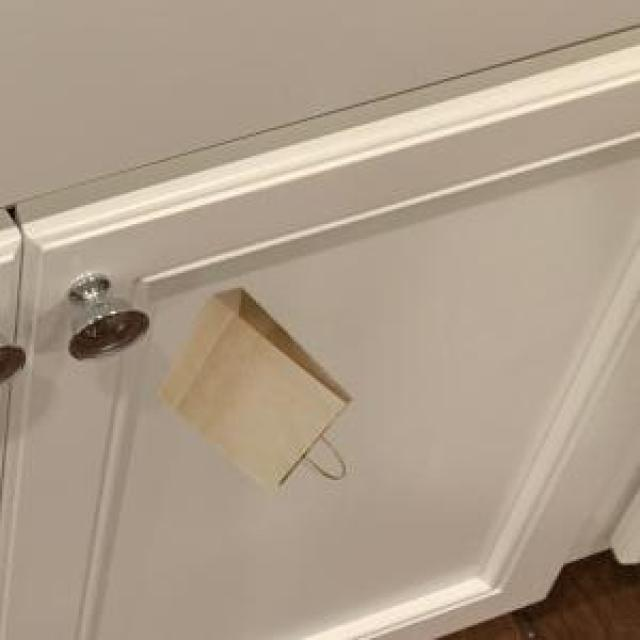paper: (154, 284, 348, 486)
